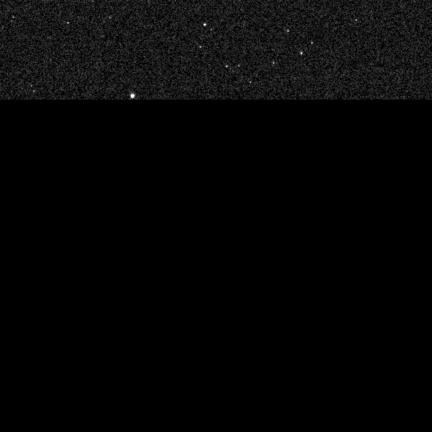blob: (131, 94, 134, 98), (204, 23, 207, 27), (300, 52, 303, 55), (226, 65, 229, 68), (273, 62, 276, 65)
